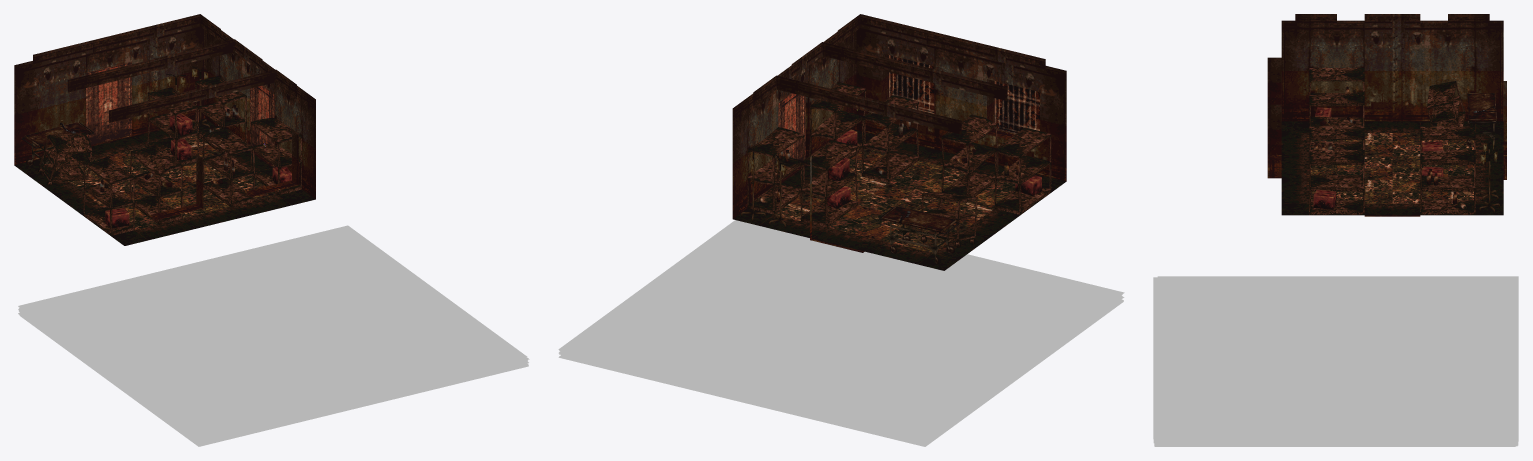
3 views of the same model, side by side, from view 1: azimuth 30°, elevation 25°; view 2: azimuth 150°, elevation 25°; view 3: azimuth 270°, elevation 25° (orthographic). The views are drawn at different scales.
Visible parts, largest first — view 1: BEAN1_HI#15_m0, NL_BACK_m1, NL_BACK_m5, NL_BACK_m3, NL_BACK_m0, NL_m7, NL_m11, BEAN1_HI#14_m0, NL_m9, NL_m12, NL_m10, NL_m4 (+12 smaller); view 2: BEAN1_HI#15_m0, NL_BACK_m5, NL_BACK_m4, NL_BACK_m0, NL_BACK_m3, NL_m7, NL_m4, NL_m11, NL_m9, NL_m12, NL_m10, NL_m5 (+11 smaller); view 3: BEAN1_HI#15_m0, NL_BACK_m2, NL_BACK_m5, NL_m7, NL_m11, NL_BACK_m0, NL_m4, BEAN1_HI#14_m0, NL_m5, NL_m8, BEAN1_HI#2_m0, NL_NEAR_m0 (+8 smaller).
Part boxes in pixels (x1,y1,x2,y2): BEAN1_HI#15_m0: (18, 142, 527, 437); NL_BACK_m1: (14, 14, 205, 165); NL_BACK_m5: (14, 118, 315, 245); NL_BACK_m3: (200, 14, 315, 199); NL_BACK_m0: (67, 39, 298, 220); NL_m7: (83, 117, 301, 207); NL_m11: (39, 132, 182, 196); BEAN1_HI#14_m0: (20, 144, 529, 439); NL_m9: (203, 153, 255, 206); NL_m12: (129, 171, 182, 224); NL_m10: (83, 184, 134, 235); NL_m4: (22, 75, 246, 148); BEAN1_HI#15_m0: (558, 220, 1121, 438); NL_BACK_m5: (733, 130, 1066, 270); NL_BACK_m4: (854, 14, 1066, 181); NL_BACK_m0: (776, 42, 1039, 147); NL_BACK_m3: (732, 14, 860, 218); NL_m7: (810, 82, 1051, 183); NL_m4: (747, 127, 959, 234); NL_m11: (921, 114, 997, 238); NL_m9: (862, 123, 918, 182); NL_m12: (941, 142, 998, 201); NL_m10: (994, 155, 1051, 214); NL_m5: (747, 156, 804, 214); BEAN1_HI#15_m0: (1157, 276, 1518, 438); NL_BACK_m2: (1281, 14, 1503, 121); NL_BACK_m5: (1281, 121, 1503, 215); NL_m7: (1309, 68, 1364, 188); NL_m11: (1309, 81, 1465, 127); NL_BACK_m0: (1267, 57, 1281, 178); NL_m4: (1420, 126, 1475, 187); BEAN1_HI#14_m0: (1153, 277, 1513, 439); NL_m5: (1420, 175, 1475, 215); NL_m8: (1309, 175, 1364, 215); BEAN1_HI#2_m0: (1155, 443, 1515, 445); NL_NEAR_m0: (1422, 93, 1496, 176).
Bounding box in the file's own units: 11.42 × 8.63 × 10.53.
Materials: 19 (18 with a texture image).
